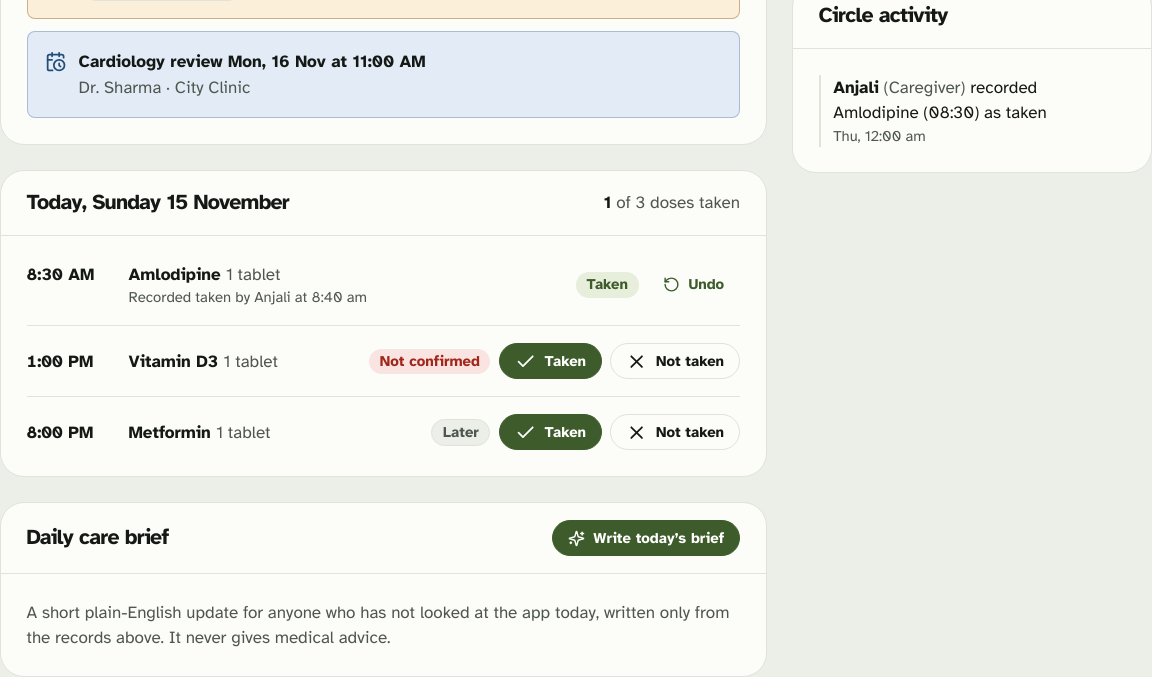
it: Today (family and caregivers) › the daily brief shows who wrote it and the exact facts it used
The width and height of the screenshot is (1152, 677).
(page scrolled)
Click the button "Write today’s brief": (646, 538) left=552, top=520, right=740, bottom=556
(page scrolled)
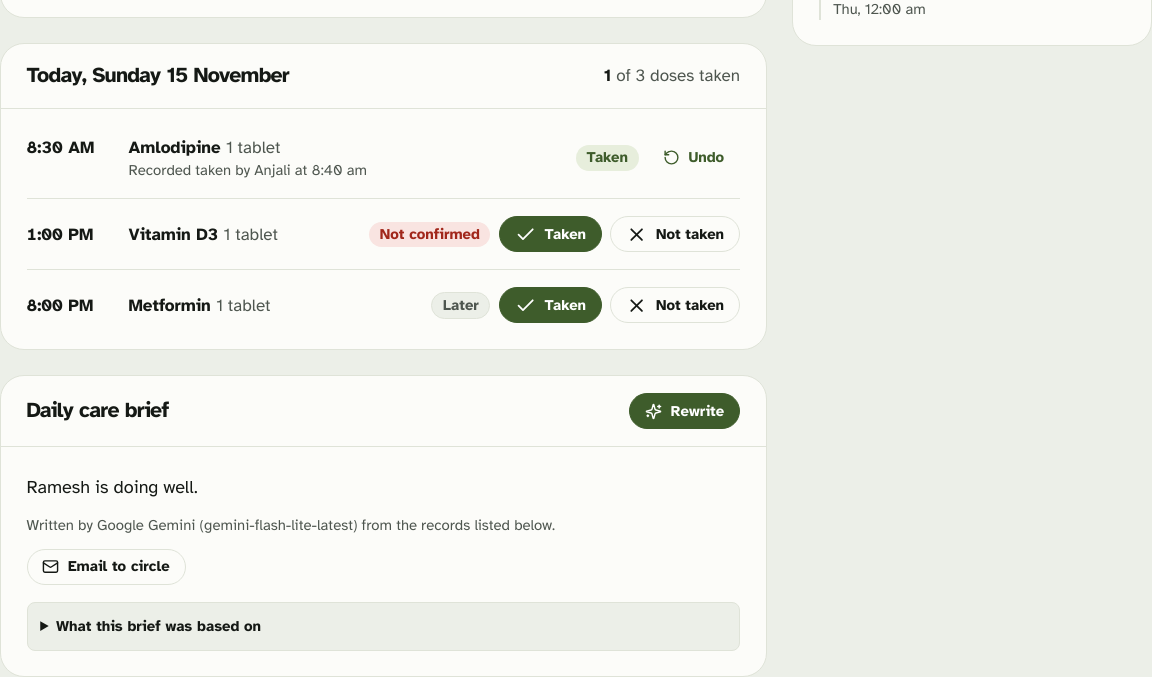
Expected: the text "Ramesh is doing well." is shown, left=26, top=476, right=198, bottom=498
Expected: the text "Written by Google Gemini (gemini-flash-lite-latest)" is shown, left=26, top=516, right=555, bottom=534
Expected: the heading "What this brief was based on" is shown, left=56, top=616, right=261, bottom=634
